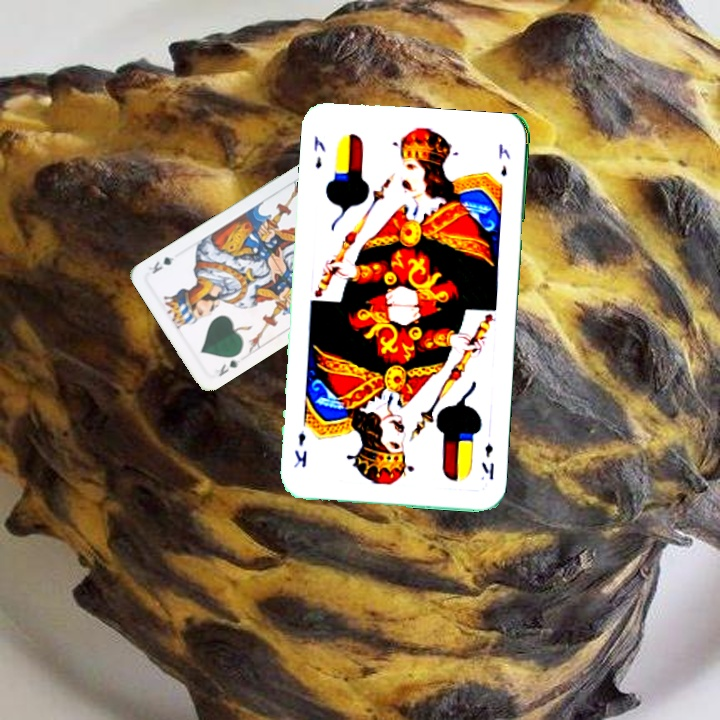EK: (477, 440, 497, 483), (310, 131, 328, 171)
GK: (211, 355, 243, 379)
